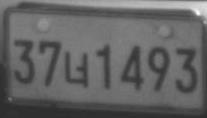1: (93, 42, 114, 90)
3: (175, 46, 198, 93), (13, 38, 36, 84)
4: (120, 44, 144, 92)
7: (38, 39, 62, 87)
9: (147, 46, 171, 91)
너: (64, 49, 89, 88)
